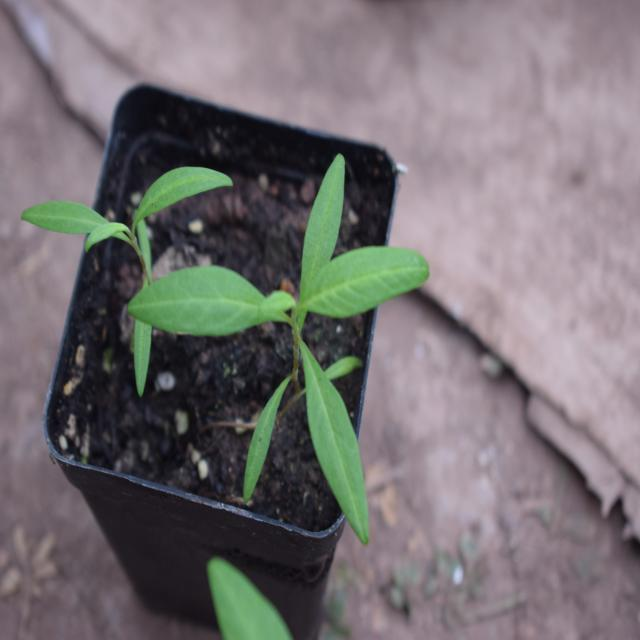white_smart_weed: (111, 162, 437, 553)
